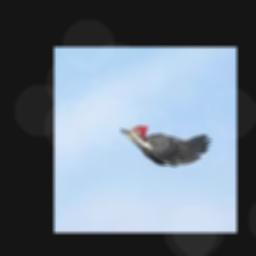Woodpecker: (121, 125, 213, 165)
